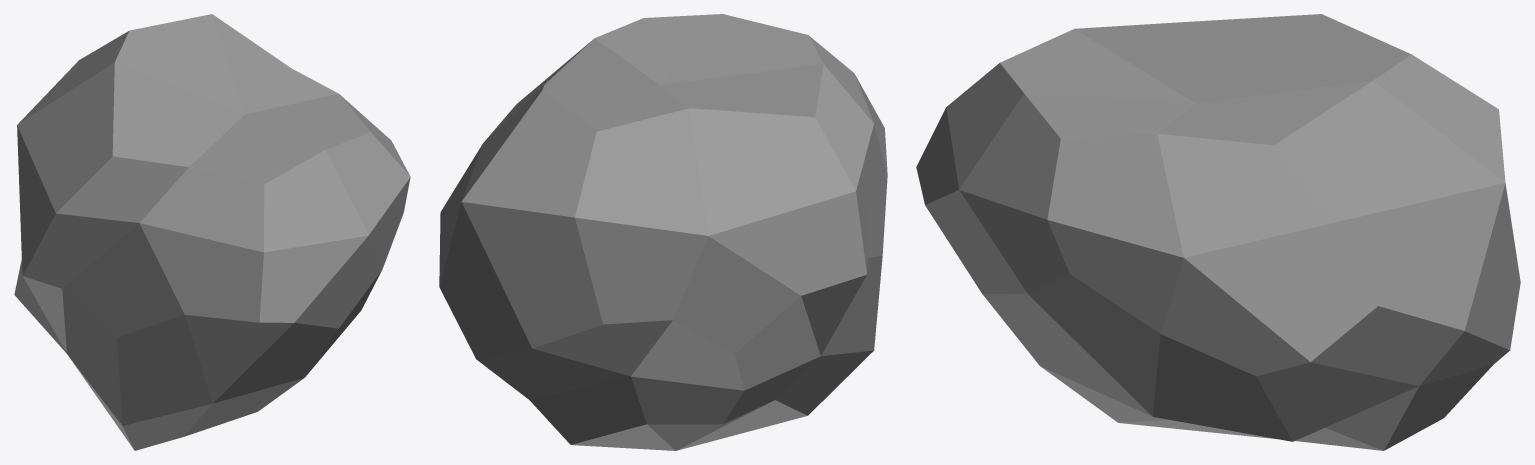
Rendered from mountain.fbx.
The picture shows the model from 3 angles, left to right: view 1: azimuth 30°, elevation 25°; view 2: azimuth 150°, elevation 25°; view 3: azimuth 270°, elevation 25°; orthographic projection. The views are drawn at different scales.
Visible parts, largest first — view 1: Meteroit; view 2: Meteroit; view 3: Meteroit.
Boxes of the visible parts, left/top/right/bottom form: Meteroit: left=14, top=14, right=410, bottom=450; Meteroit: left=439, top=14, right=887, bottom=450; Meteroit: left=916, top=14, right=1520, bottom=450.
Bounding box in the file's own units: 176 × 156 × 204.
